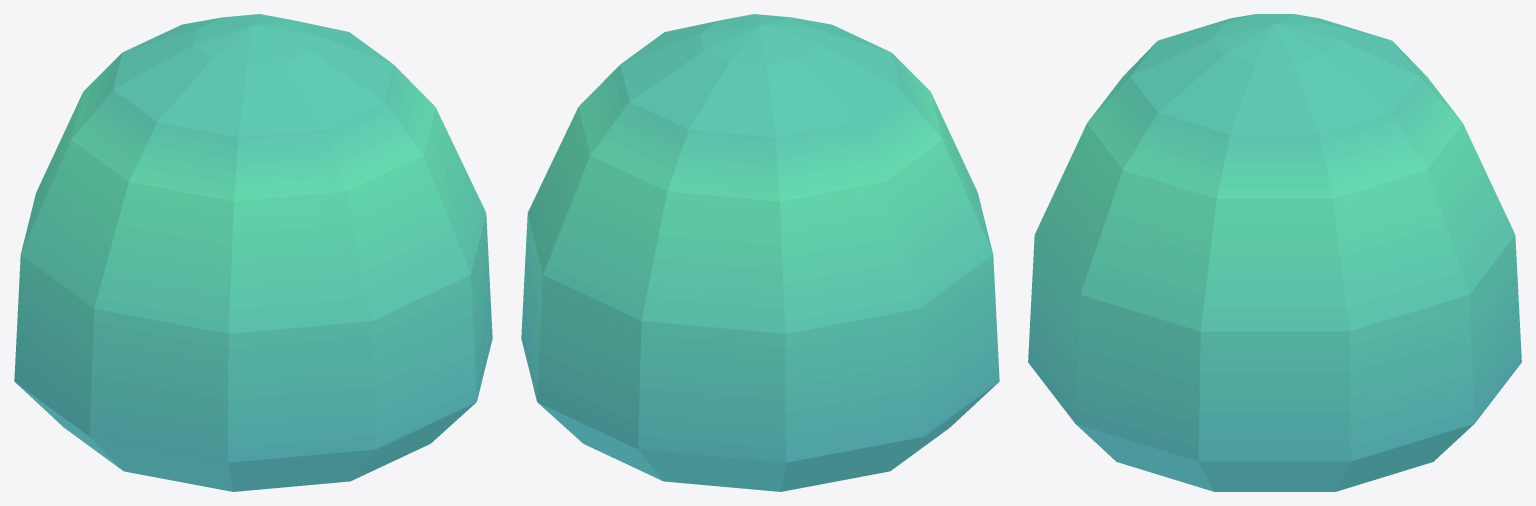
The model's file is bush3.glb.
3 views of the same model, side by side, from view 1: azimuth 30°, elevation 25°; view 2: azimuth 150°, elevation 25°; view 3: azimuth 270°, elevation 25° (orthographic).
Visible parts, largest first — view 1: bush.002; view 2: bush.002; view 3: bush.002.
Part boxes in pixels (<box>): bush.002: <box>14,14,492,491</box>; bush.002: <box>521,14,999,491</box>; bush.002: <box>1028,14,1521,491</box>.
Bounding box in the file's own units: 0.6625 × 0.6605 × 0.6966.
1 material, 1 textured.
